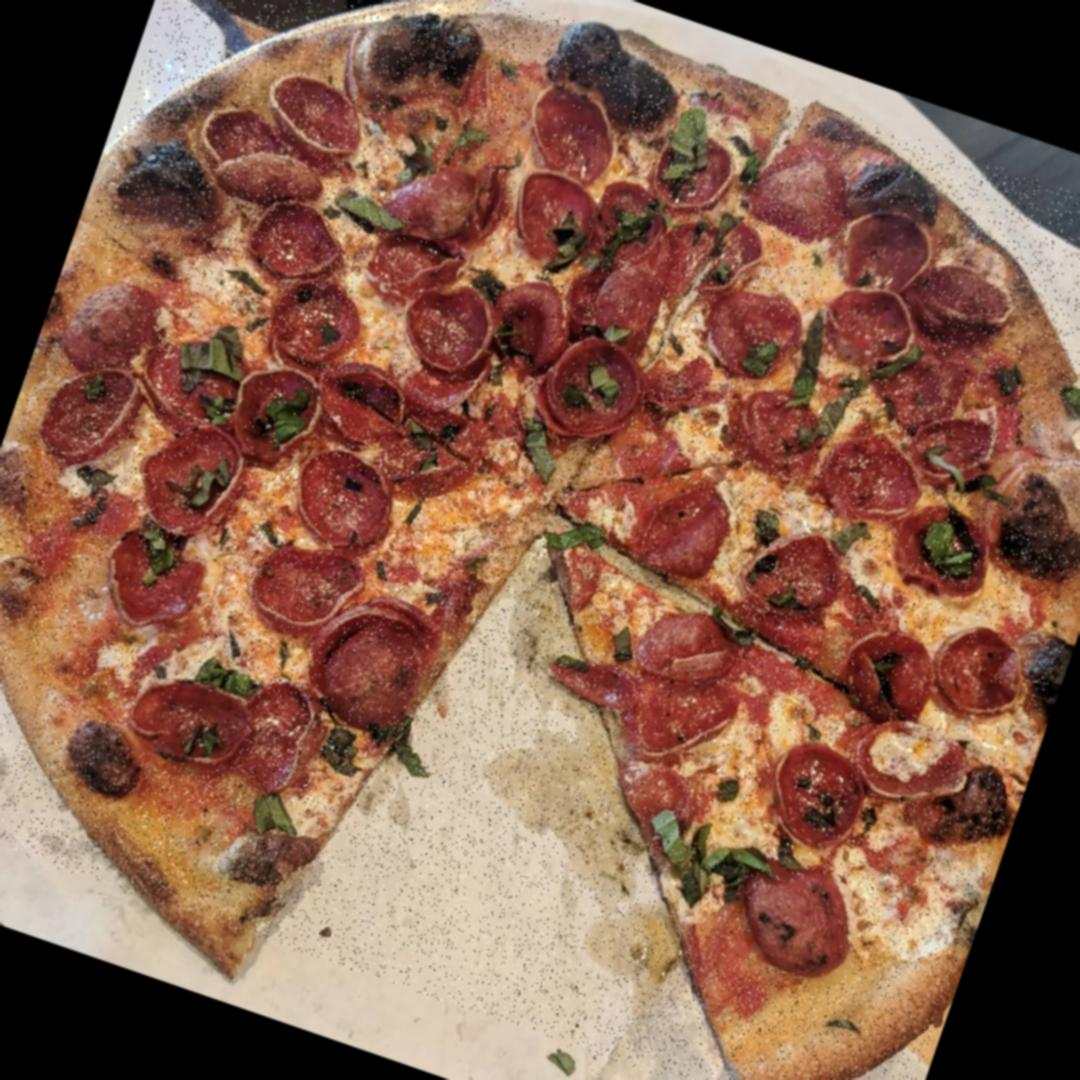Basil: (626, 804, 779, 938), (652, 98, 732, 205), (910, 501, 998, 593), (914, 437, 1022, 510), (777, 305, 844, 420), (176, 316, 255, 392), (364, 714, 445, 787), (329, 180, 418, 246), (474, 309, 536, 394), (121, 524, 188, 598), (594, 196, 658, 272), (308, 719, 375, 790), (190, 649, 269, 708), (170, 450, 238, 518), (512, 418, 574, 490), (258, 382, 318, 454), (540, 207, 598, 280), (244, 790, 312, 851), (786, 778, 850, 840), (536, 510, 610, 562), (441, 113, 498, 172), (573, 353, 632, 408), (392, 130, 446, 188), (824, 506, 878, 563), (397, 422, 453, 476), (698, 203, 744, 262), (726, 136, 774, 190), (737, 333, 785, 386), (469, 262, 520, 311), (594, 310, 640, 356), (195, 386, 242, 431), (1050, 371, 1080, 440), (552, 379, 597, 420), (748, 508, 791, 550), (712, 772, 750, 814), (988, 363, 1026, 403), (606, 625, 640, 668), (314, 320, 346, 353)
Pepperoni: (291, 346, 507, 513), (296, 579, 455, 753), (346, 228, 516, 382), (84, 516, 228, 660), (728, 852, 873, 989), (273, 432, 416, 566), (184, 102, 346, 220), (124, 410, 254, 554), (843, 700, 990, 824), (746, 732, 875, 870), (30, 346, 152, 488), (123, 664, 262, 784), (510, 67, 635, 197), (528, 322, 654, 450), (883, 494, 1009, 615), (492, 158, 612, 282), (216, 348, 332, 476), (620, 664, 748, 780), (244, 533, 372, 648), (693, 278, 819, 393), (389, 146, 513, 262), (748, 132, 868, 250), (224, 676, 329, 810), (736, 516, 856, 631), (134, 323, 255, 436), (926, 614, 1042, 730), (58, 265, 176, 379), (237, 193, 360, 302), (901, 254, 1026, 358), (260, 66, 384, 170), (642, 110, 751, 228), (555, 244, 671, 354), (617, 472, 730, 584), (654, 202, 771, 309), (814, 428, 931, 534), (812, 277, 931, 379), (259, 271, 370, 380), (832, 622, 944, 730), (477, 270, 584, 383), (722, 381, 843, 480), (837, 194, 946, 302), (634, 600, 748, 700), (902, 395, 1012, 496), (584, 166, 682, 274), (602, 752, 702, 856), (874, 345, 972, 440), (637, 340, 737, 424), (550, 652, 642, 716)
Pizza: (0, 0, 1080, 1080)
